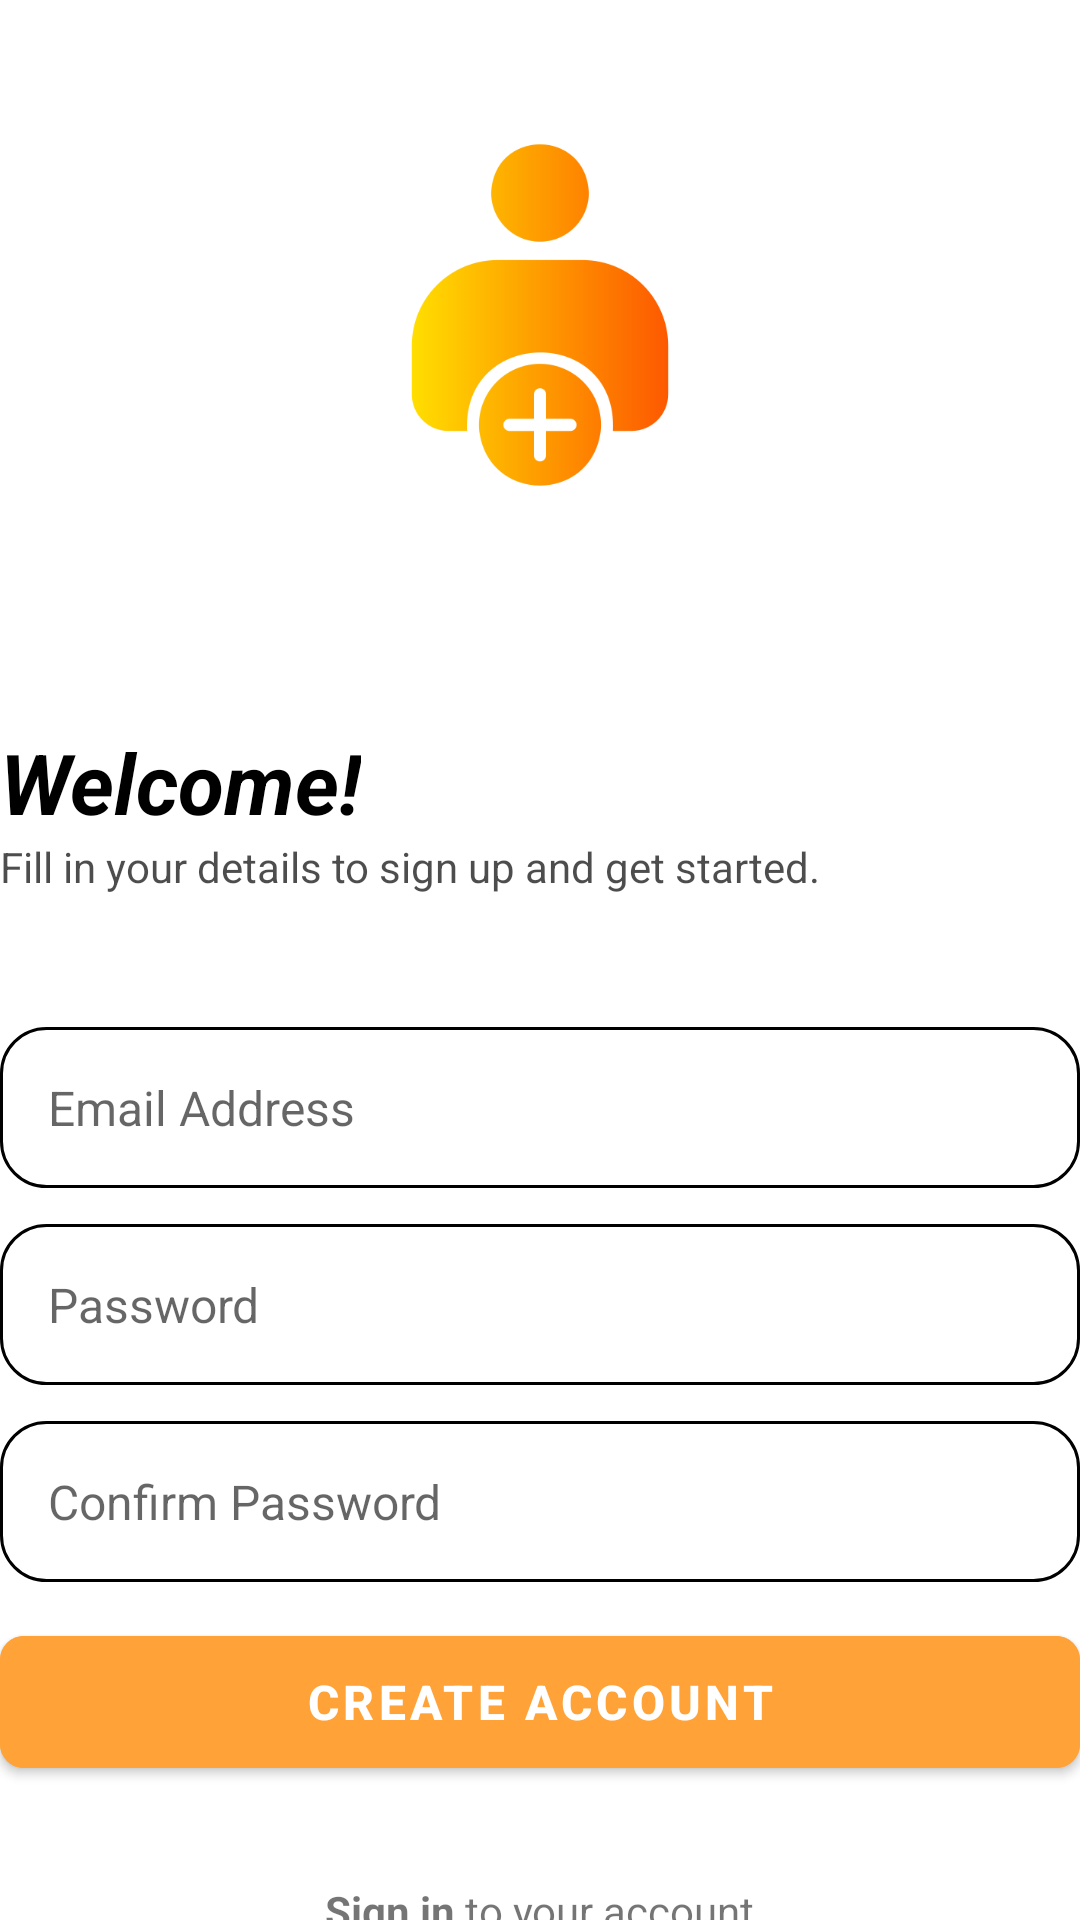

Locate icon controls on the screen. Image size 1080w x 1920h, boxes as (x1, y1, x2, y2).
signup: (411, 144, 669, 486)
